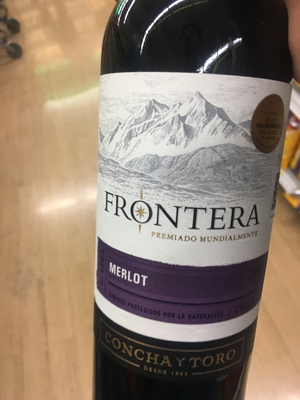frontera merlot: (91, 26, 288, 400)
